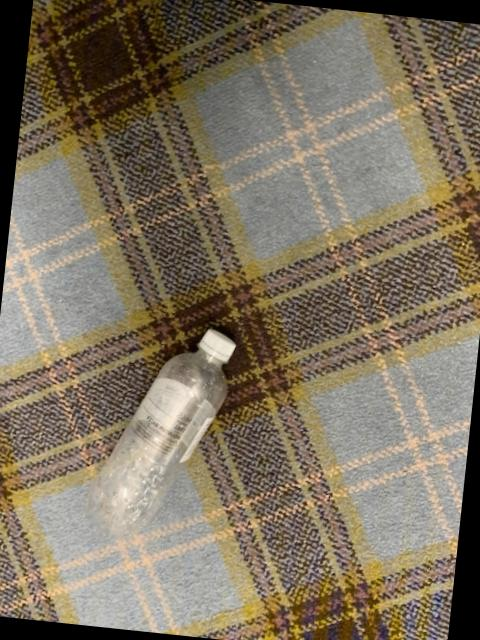plastic: (86, 329, 233, 538)
